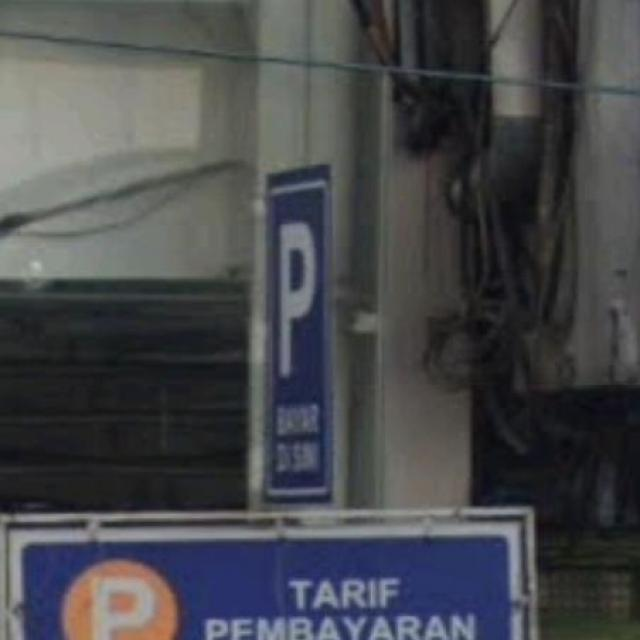traffic sign: (265, 162, 336, 499)
